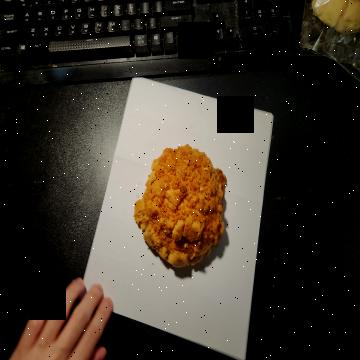soboru_bread: (134, 144, 228, 267)
